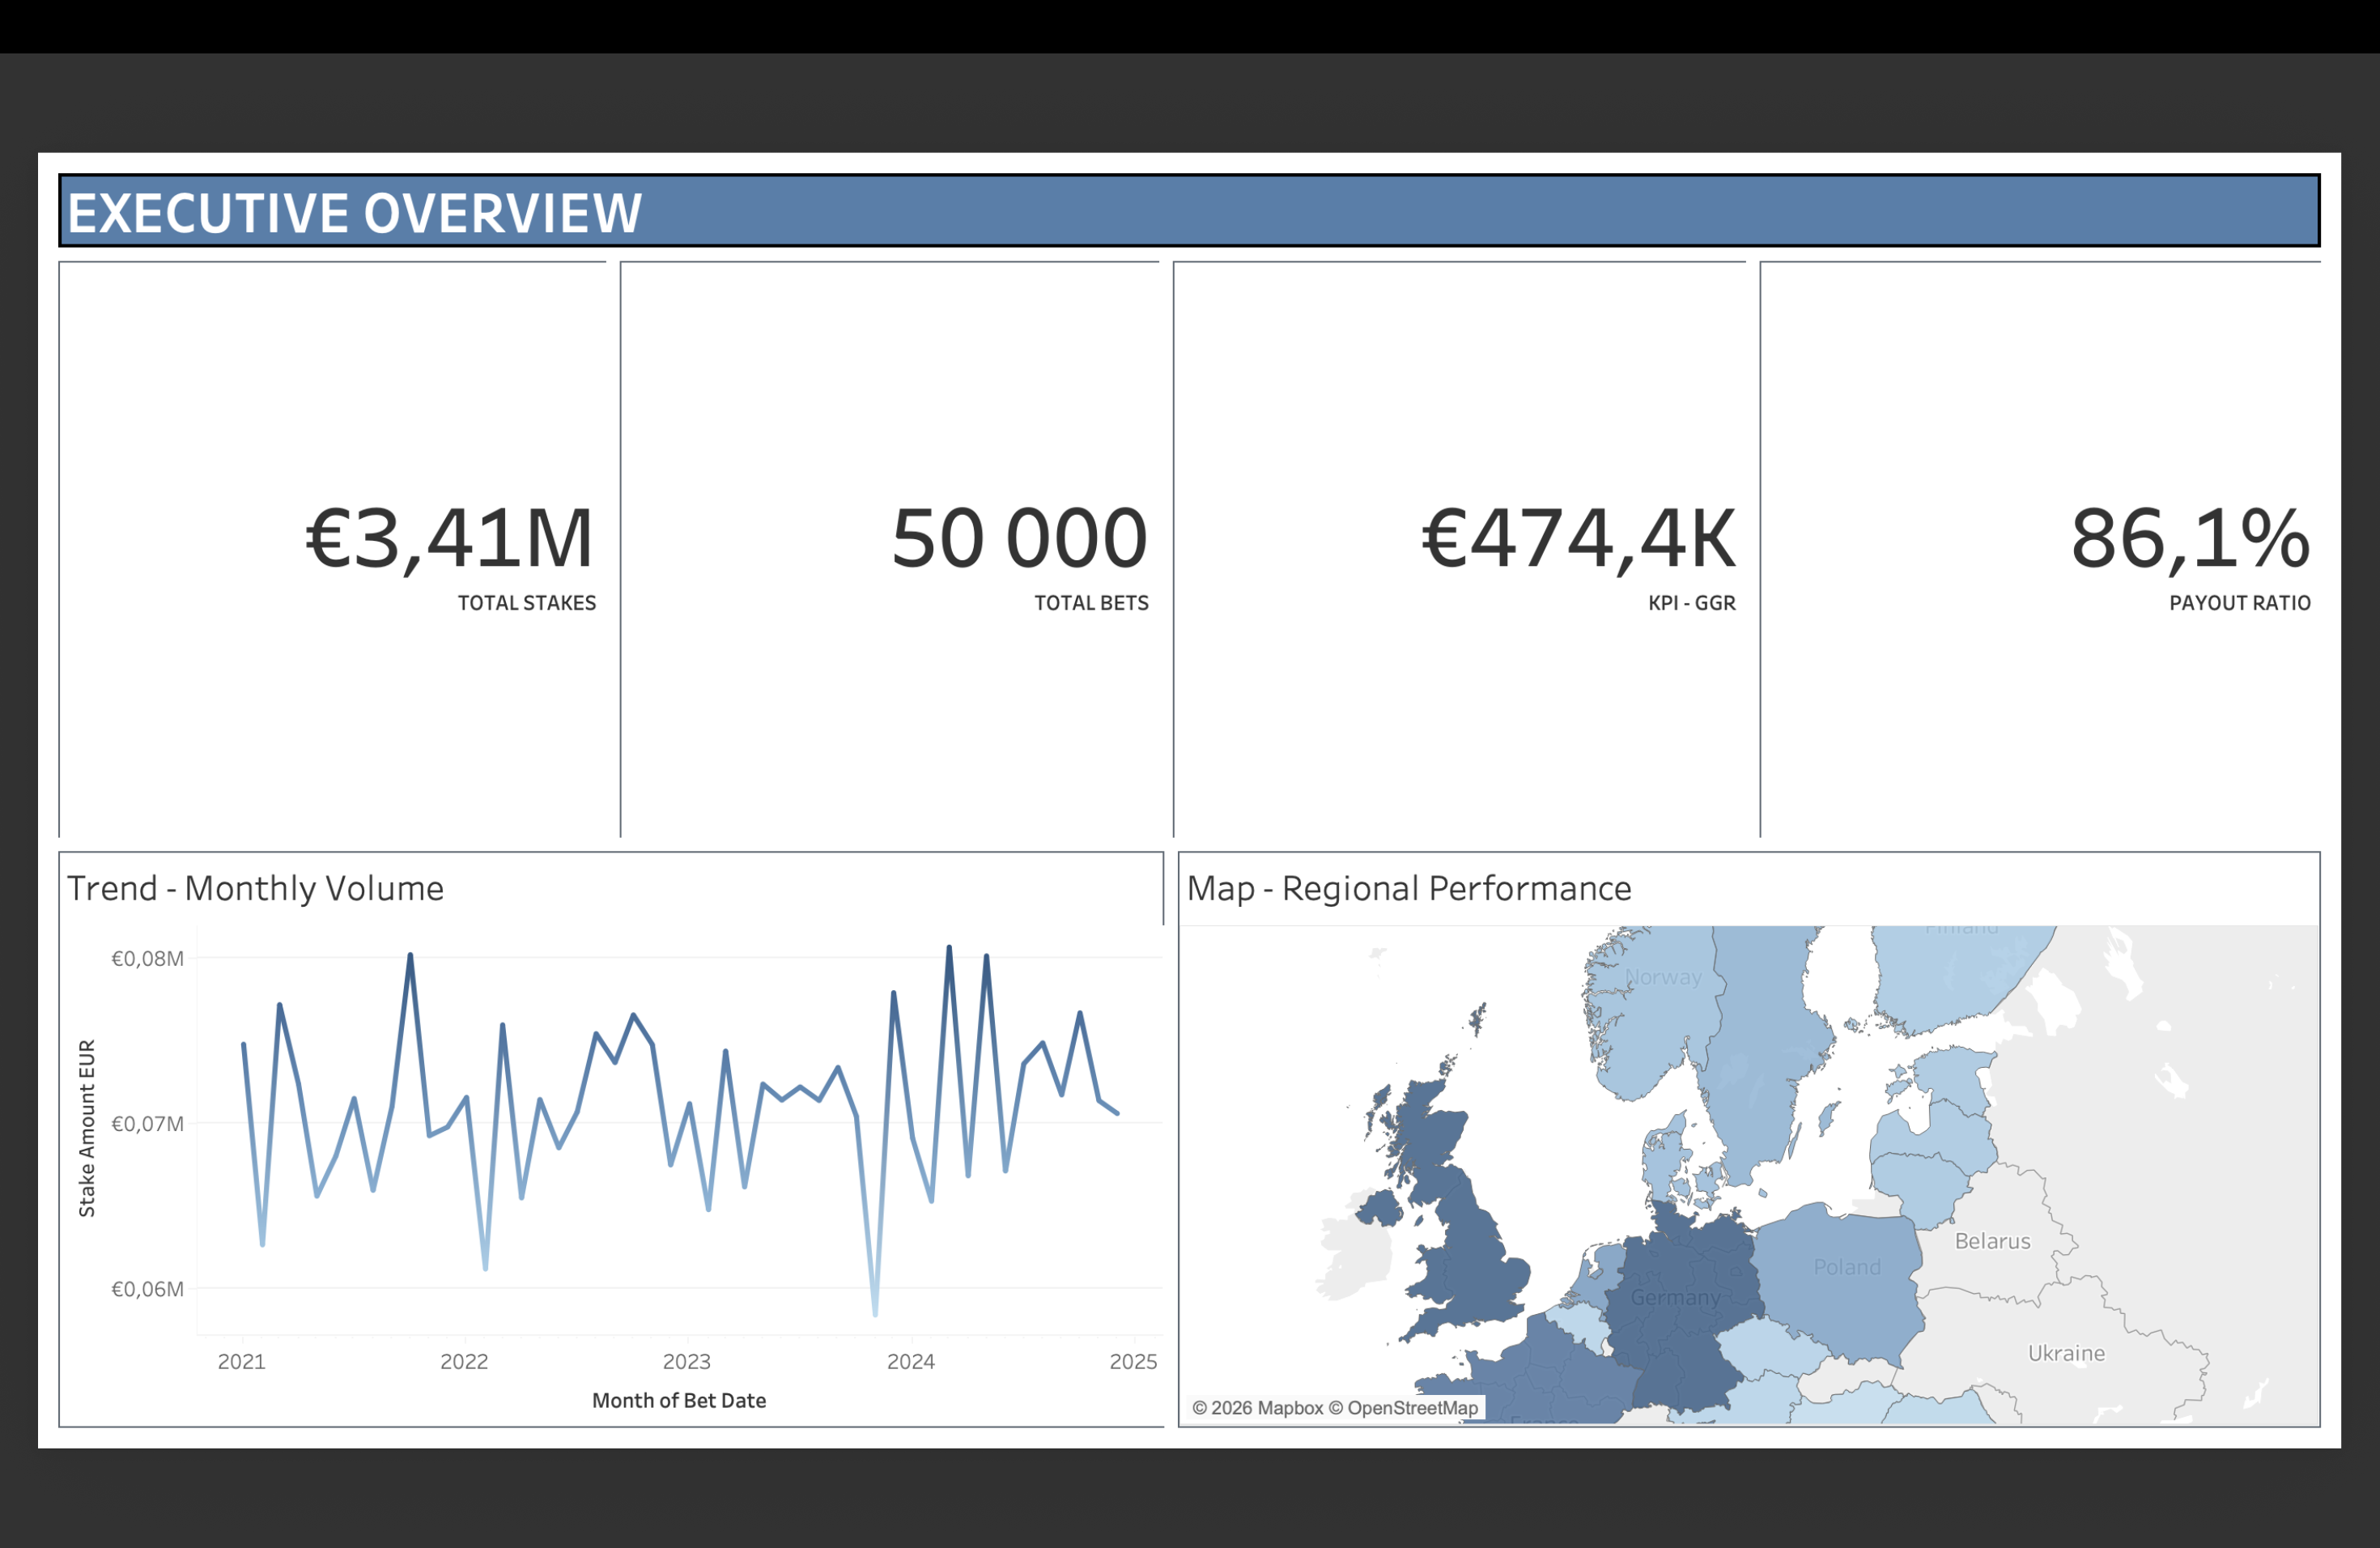

Layout of this report page (visuals, bound fields, positions):
{"tool":"tableau","page":{"name":"EXECUTIVE OVERVIEW","canvas":[1366,768],"ordinal":0},"visuals":[{"type":"title","box":[8,8,1350,52]},{"type":"worksheet","title":"KPI - Total Stakes","mark":"Automatic","box":[8,60,333,350]},{"type":"worksheet","title":"KPI - Total Bets","mark":"Automatic","box":[341,60,328,350]},{"type":"worksheet","title":"KPI - GGR","mark":"Automatic","box":[669,60,348,350]},{"type":"worksheet","title":"Payout Ratio","mark":"Automatic","box":[1017,60,341,350]},{"type":"worksheet","title":"Trend - Monthly Volume","mark":"Automatic","rows":["Stake_Amount_EUR"],"cols":["Bet_Date"],"box":[8,410,664.5,350]},{"type":"worksheet","title":"Map - Regional Performance","mark":"Automatic","box":[672.5,410,685.5,350]}]}

Visuals, with their boxes on the page's 1366x768 design canvas (x1, y1, x2, y2). These are canvas units, not pixel positions in the 2380x1548 screenshot, which may show the page scaled, cropped or inside an application window:
title: 8:8:1358:60
"KPI - Total Stakes" worksheet: 8:60:341:410
"KPI - Total Bets" worksheet: 341:60:669:410
"KPI - GGR" worksheet: 669:60:1017:410
"Payout Ratio" worksheet: 1017:60:1358:410
"Trend - Monthly Volume" worksheet: 8:410:672:760
"Map - Regional Performance" worksheet: 672:410:1358:760
